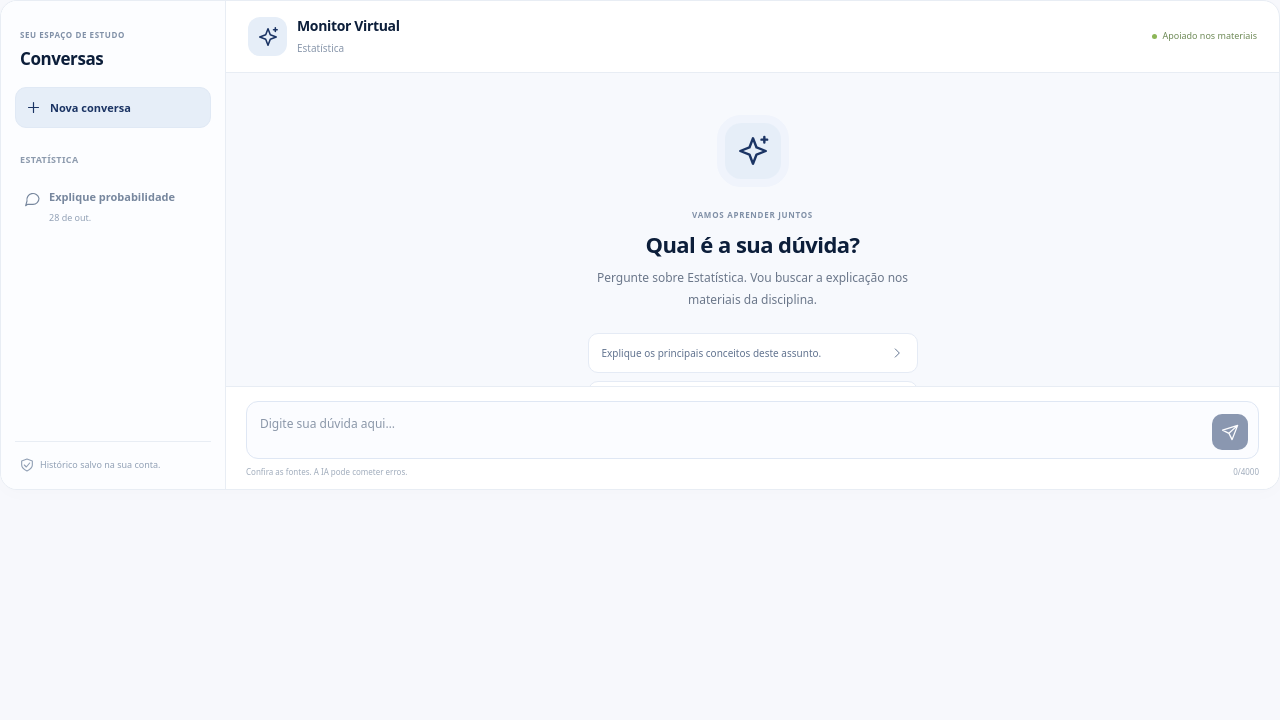
Test case: Histórico do Monitor Virtual › reabre perguntas, respostas e fontes após sair e voltar ao Monitor
The width and height of the screenshot is (1280, 720).
Expected: the text box is enabled, left=260, top=410, right=1204, bottom=450
Step 1. Click the button "Explique probabilidade 28 de out." → (113,207), box left=15, top=177, right=211, bottom=236
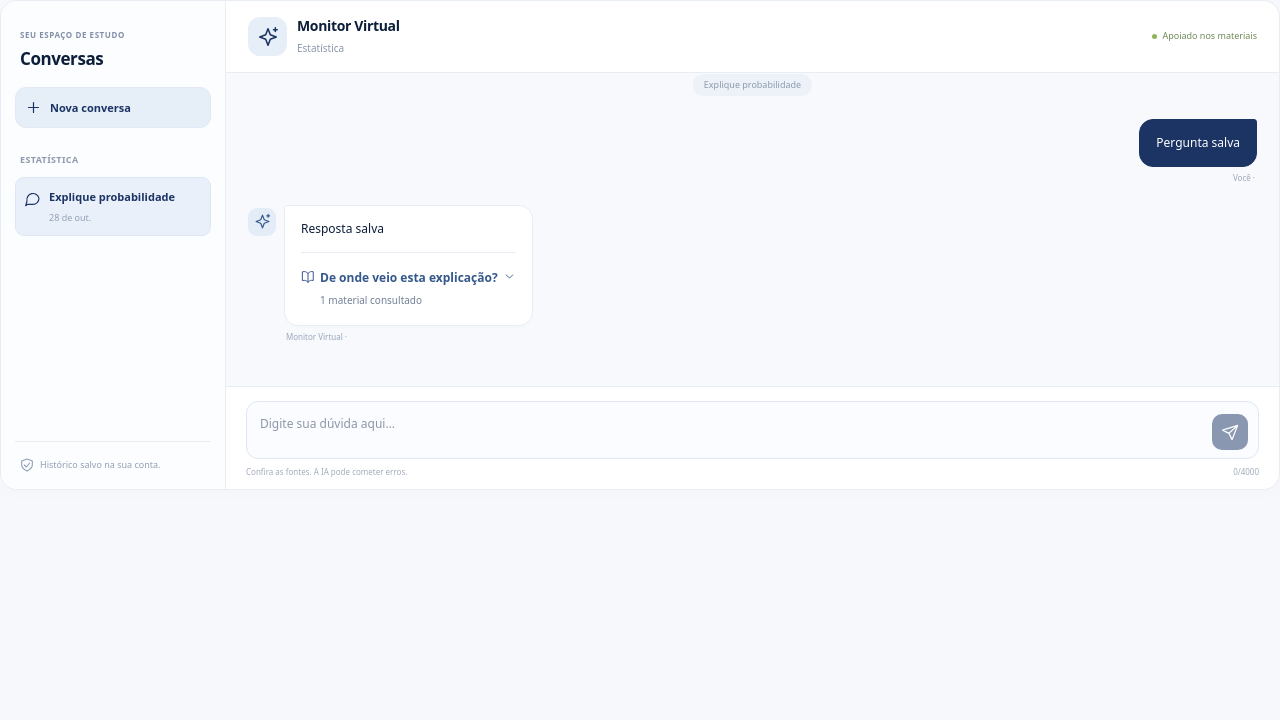
Expected: the text "Resposta salva" is shown, left=301, top=220, right=384, bottom=237
Expected: the text "Pergunta salva" is shown, left=1156, top=132, right=1240, bottom=154
Step 2. Click the heading "De onde veio esta explicação?" → (408,288), box left=301, top=263, right=516, bottom=313
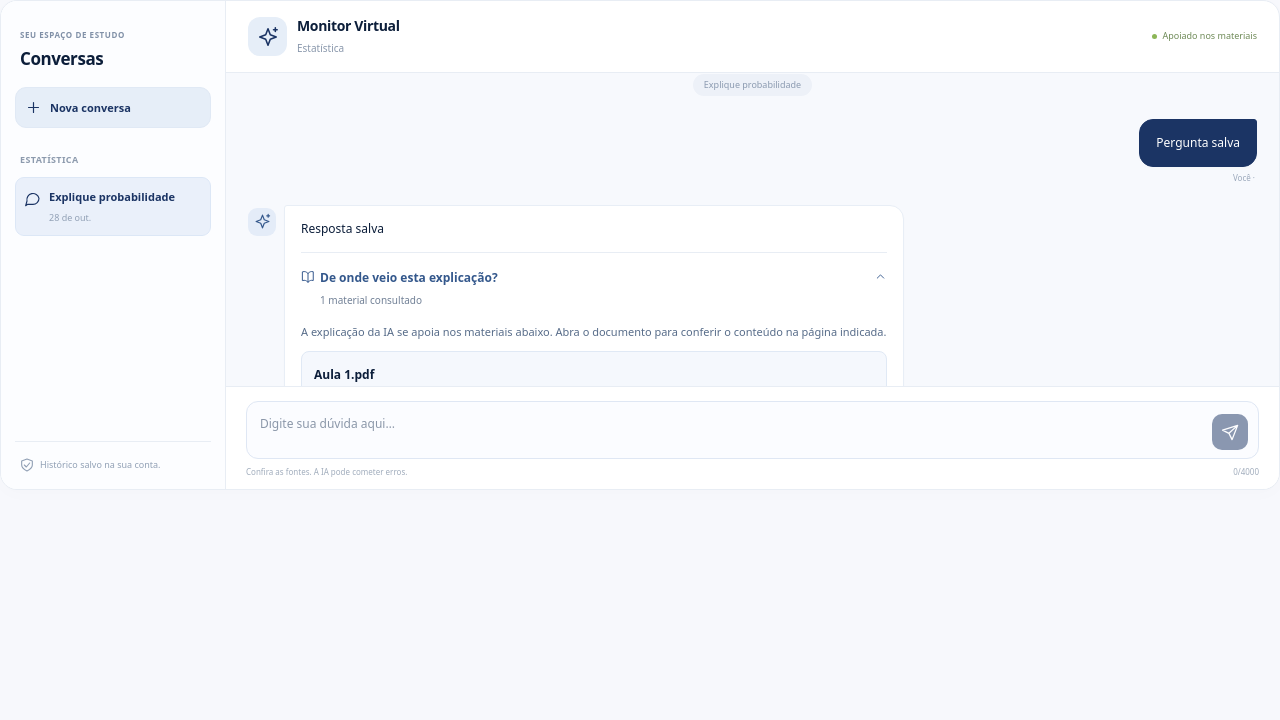
Expected: the text "Aula 1.pdf" is shown, left=314, top=364, right=374, bottom=386
Step 3. Click the button "Nova conversa" → (113,108), box left=15, top=88, right=211, bottom=128
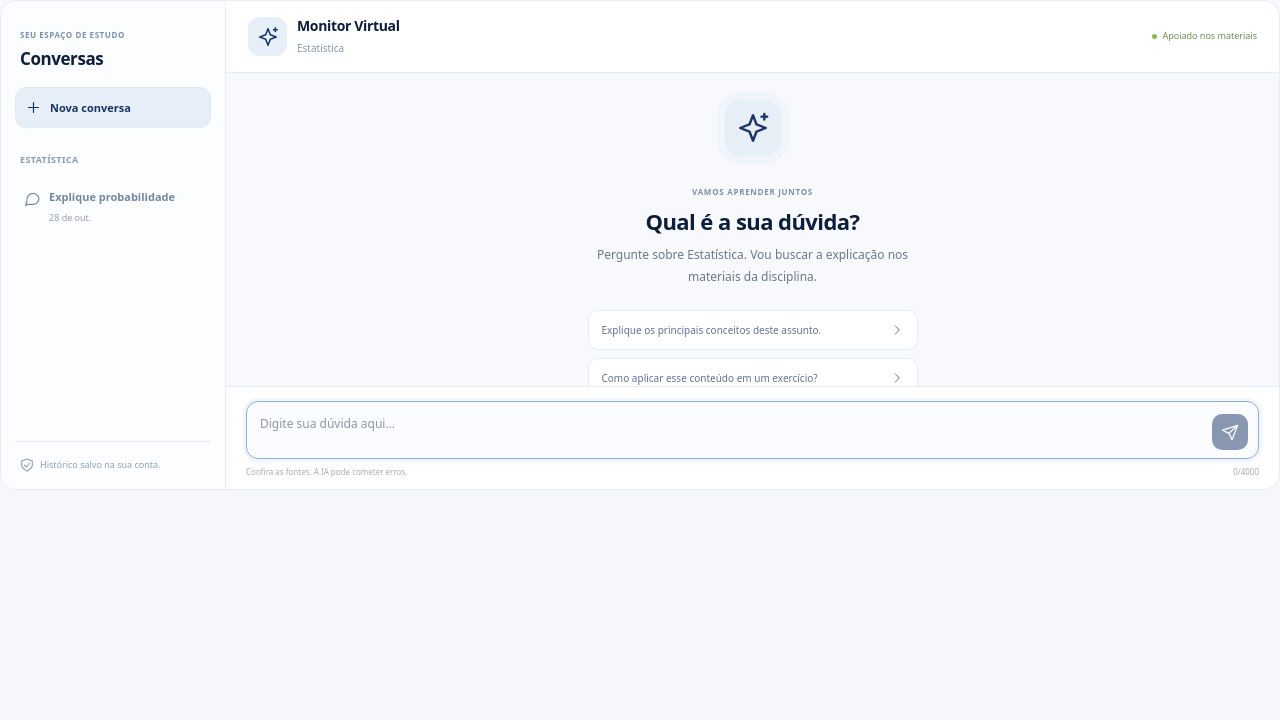
Expected: the button "Explique probabilidade 28 de out." is shown, left=15, top=177, right=211, bottom=236
Expected: the text "Resposta salva" is gone
